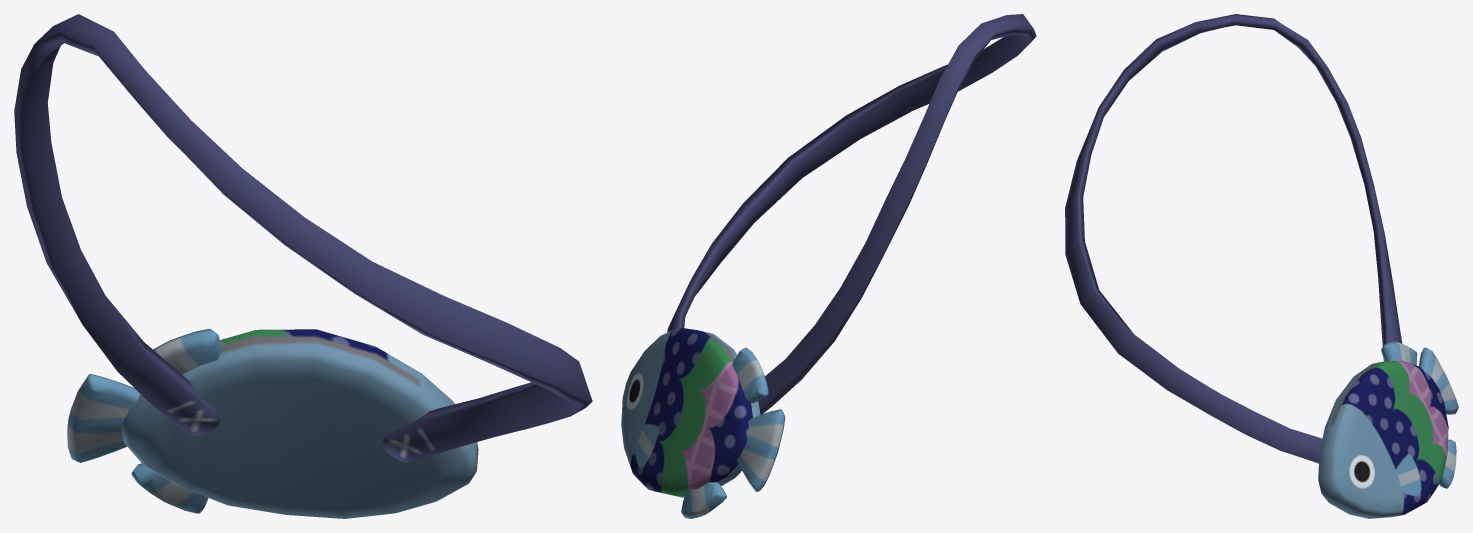
Rendered from BagShoulderFish0.glb.
The picture shows the model from 3 angles, left to right: view 1: azimuth 30°, elevation 25°; view 2: azimuth 150°, elevation 25°; view 3: azimuth 270°, elevation 25°; orthographic projection. The views are drawn at different scales.
Visible parts, largest first — view 1: Belt__mBag; view 2: Belt__mBag; view 3: Belt__mBag.
Boxes of the visible parts, x1,y1,x2,y2 form: Belt__mBag: (14,14,592,518); Belt__mBag: (621,14,1036,518); Belt__mBag: (1065,14,1458,518).
Size of the model in its own units: 2.89 by 3.94 by 3.55.
1 material, 1 textured.
